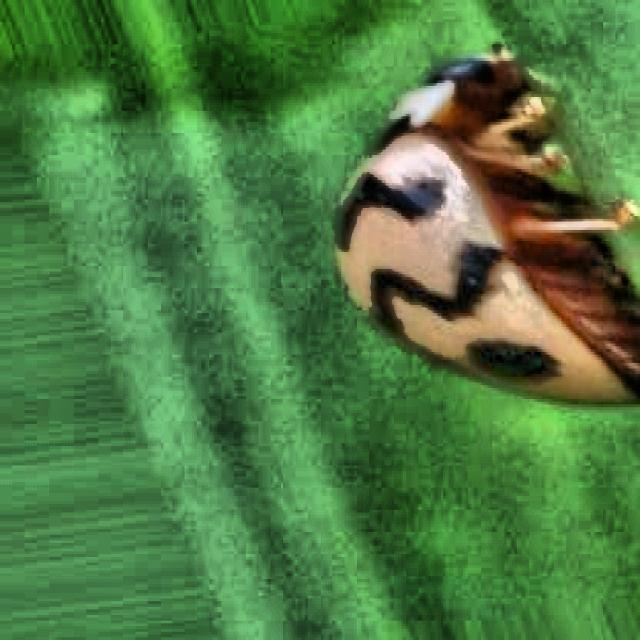Asian-Lady-beetle: (313, 33, 640, 518)
